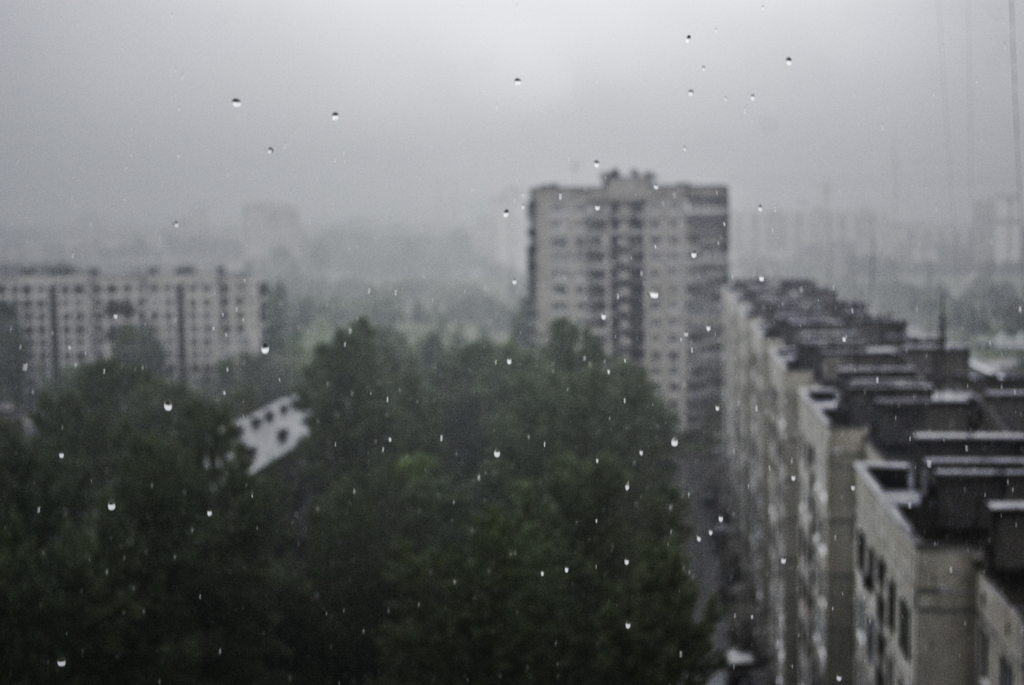Tree: (0, 325, 735, 684)
